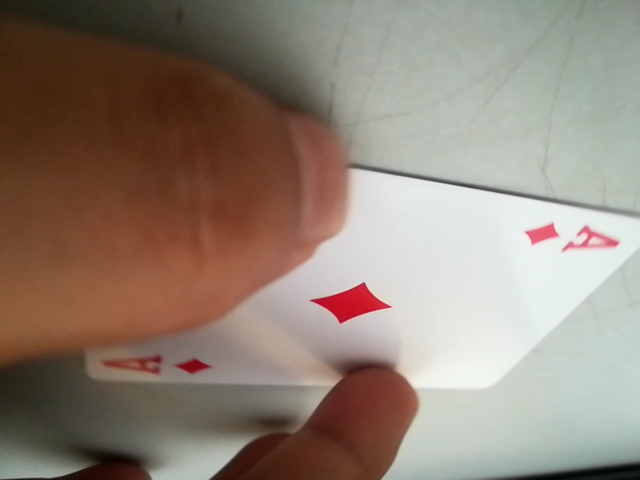fk a: (513, 214, 631, 260), (93, 348, 216, 385)
